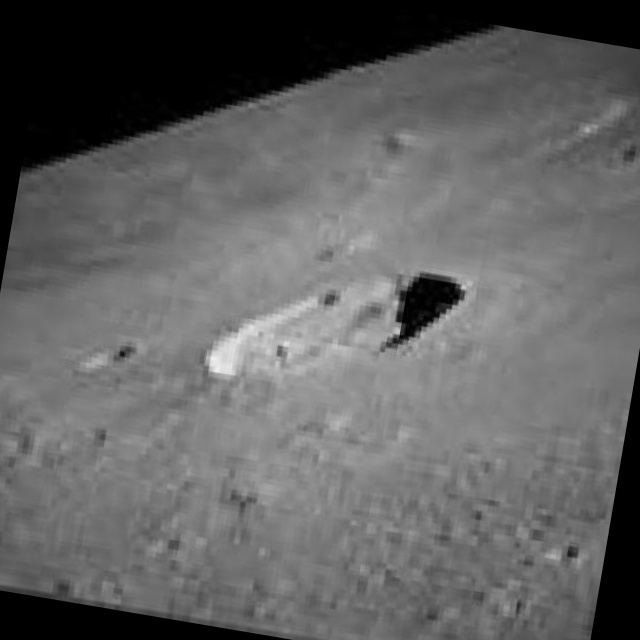crater: (212, 259, 454, 390)
